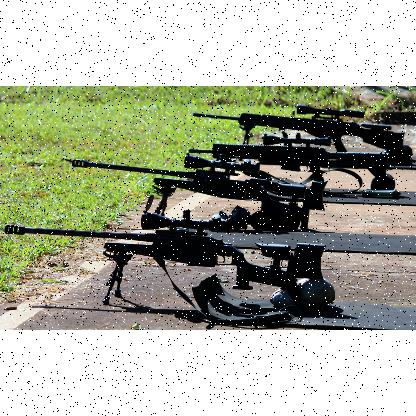gun: (4, 207, 326, 306), (67, 152, 326, 230), (189, 102, 415, 166), (188, 130, 390, 194)
